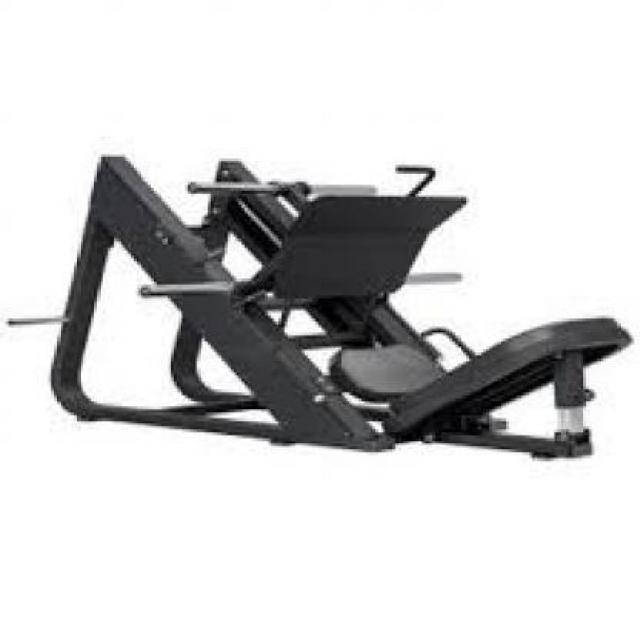leg press: (6, 150, 637, 482)
